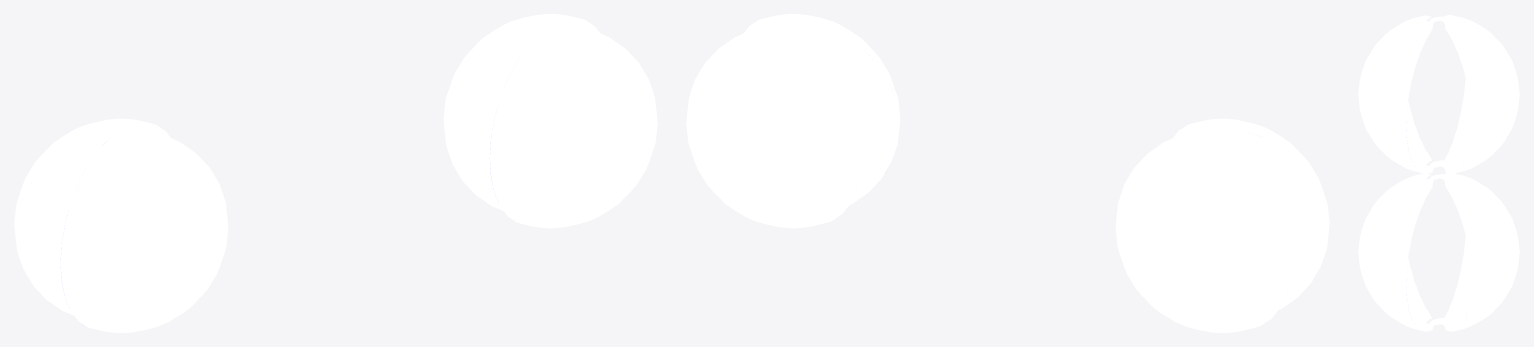
Rendered from current 1.FBX.
3 renders of one model, left to right at view 1: azimuth 30°, elevation 25°; view 2: azimuth 150°, elevation 25°; view 3: azimuth 270°, elevation 25°, orthographic. The views are drawn at different scales.
Visible parts, largest first — view 1: Sphere005, Sphere004; view 2: Sphere004, Sphere005; view 3: Sphere004, Sphere005.
Part boxes in pixels (bbox=[...]): Sphere005: bbox=[14, 118, 228, 332]; Sphere004: bbox=[443, 14, 657, 228]; Sphere004: bbox=[686, 14, 900, 228]; Sphere005: bbox=[1115, 118, 1329, 332]; Sphere004: bbox=[1358, 172, 1519, 331]; Sphere005: bbox=[1358, 15, 1519, 173].
Size of the model in its own units: 3.99 by 1.2 by 1.2.
Materials: 1 (1 with a texture image).
